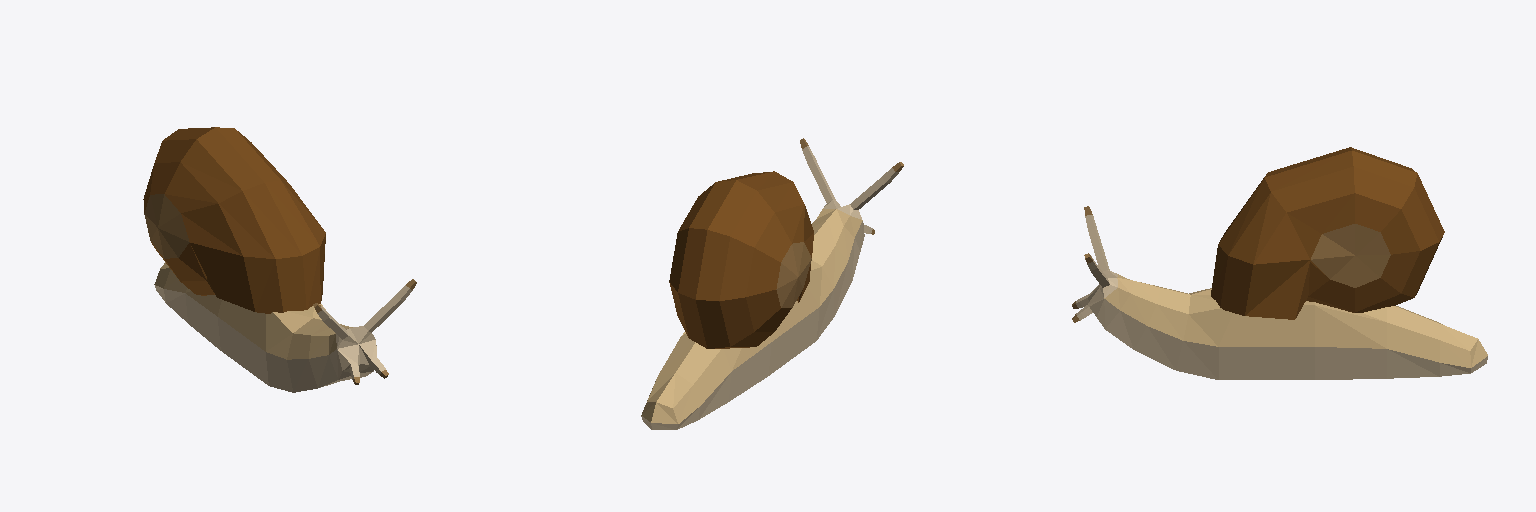
3 renders of one model, left to right at view 1: azimuth 30°, elevation 25°; view 2: azimuth 150°, elevation 25°; view 3: azimuth 270°, elevation 25°, orthographic.
Visible parts, largest first — view 1: Geo_Snail; view 2: Geo_Snail; view 3: Geo_Snail.
Boxes of the visible parts, x1,y1,x2,y2 form: Geo_Snail: [143, 127, 416, 392]; Geo_Snail: [641, 138, 903, 429]; Geo_Snail: [1072, 147, 1487, 379].
Size of the model in its own units: 2.51 by 3.86 by 7.04.
1 materials, 1 textured.